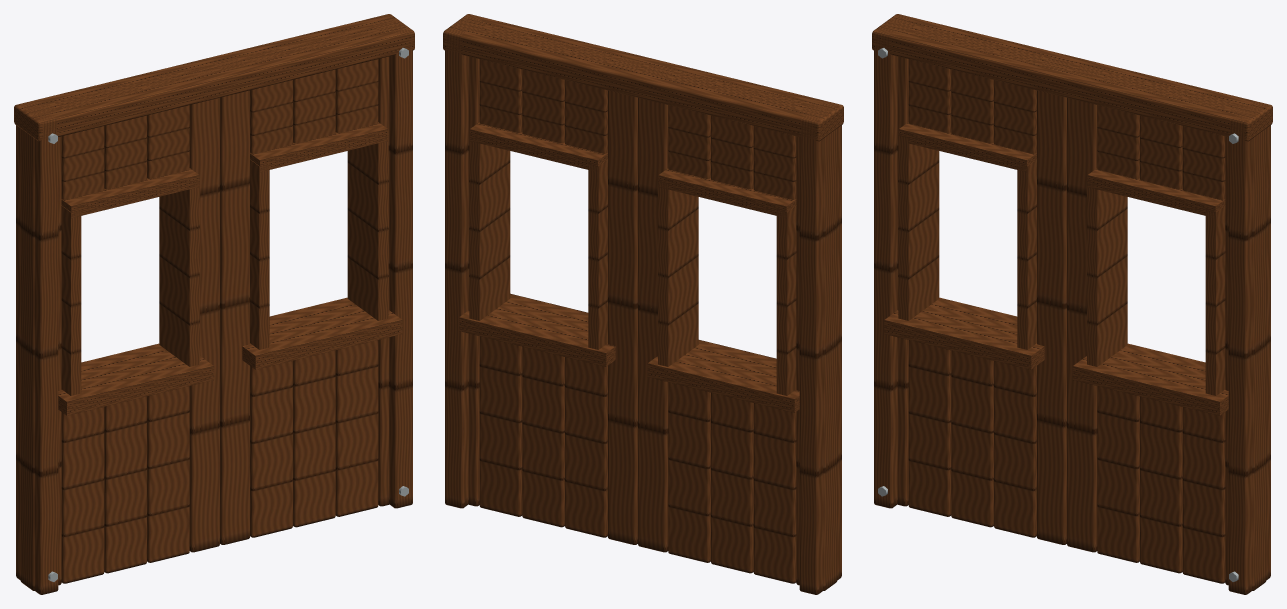
File: roadside-survival-stops-rest-stop-window-wall-1b30ab9e__23517.glb
3 renders of one model, left to right at view 1: azimuth 30°, elevation 25°; view 2: azimuth 150°, elevation 25°; view 3: azimuth 330°, elevation 25°, orthographic.
Visible parts, largest first — view 1: rest-stop-window-wall; view 2: rest-stop-window-wall; view 3: rest-stop-window-wall.
Part boxes in pixels (x1,y1,x2,y2): rest-stop-window-wall: [14, 14, 414, 594]; rest-stop-window-wall: [443, 14, 843, 594]; rest-stop-window-wall: [872, 14, 1272, 594].
Bounding box in the file's own units: 2 × 2.4 × 0.3399.
Materials: 2 (1 with a texture image).
